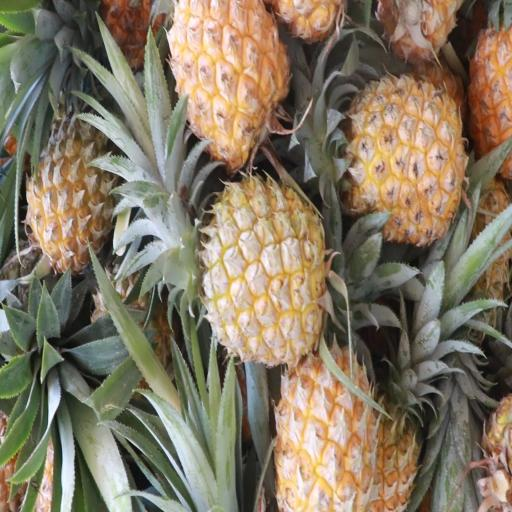Pineapple - v8 v1: (194, 168, 332, 371), (326, 75, 472, 248), (270, 295, 380, 512), (164, 4, 290, 164), (27, 86, 111, 270)
